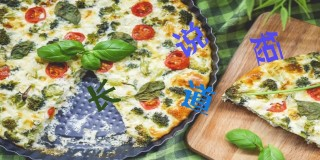短: (250, 31, 285, 66)
说: (172, 22, 209, 57)
道: (181, 80, 216, 115)
长: (86, 79, 121, 111)
